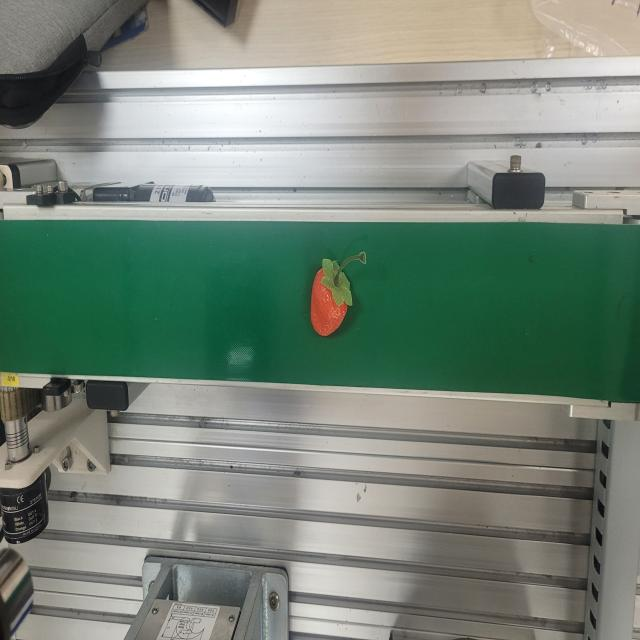Small Ripe Strawberry: (309, 247, 357, 338)
